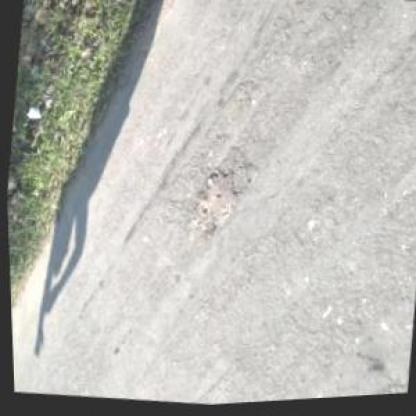pothole: (187, 166, 243, 238)
